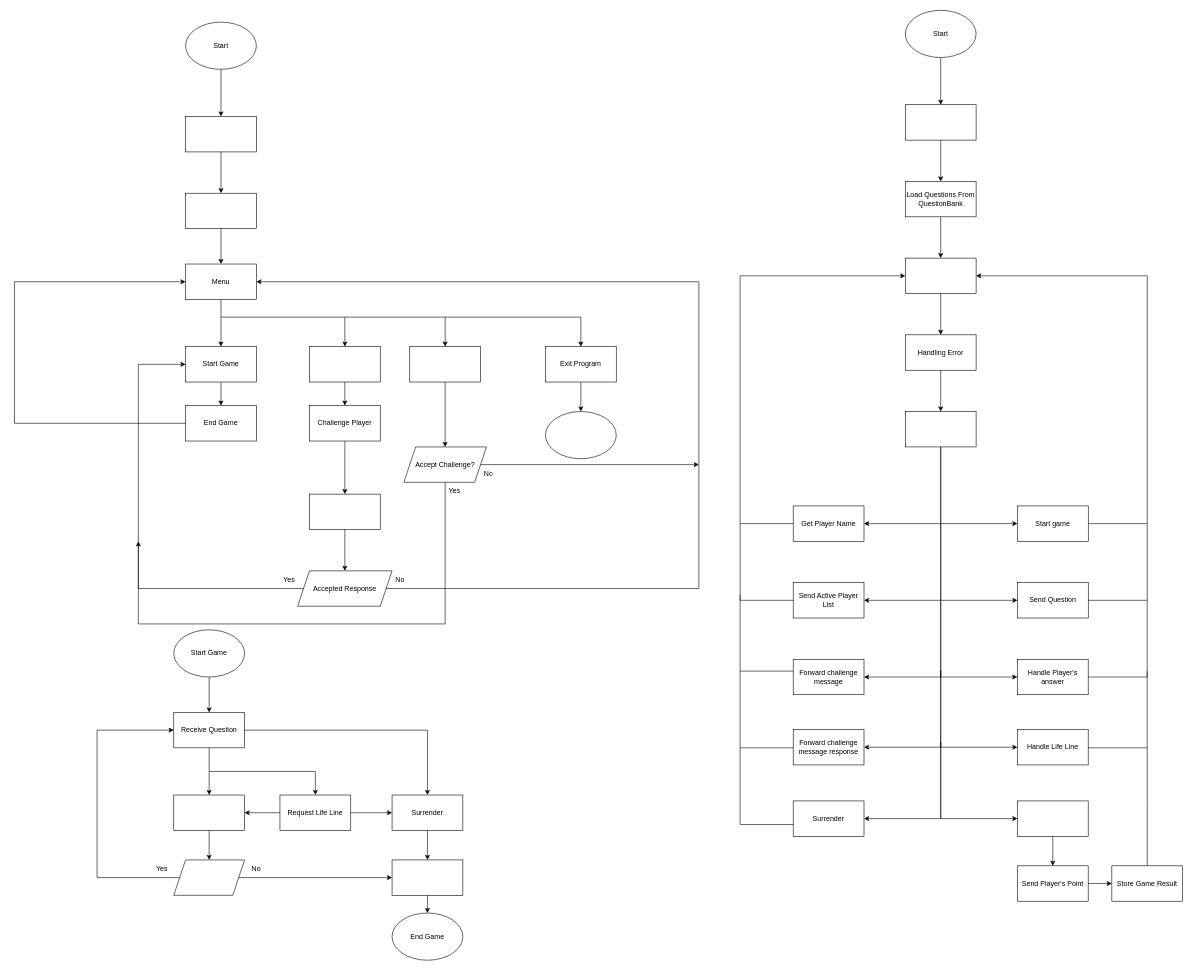
The diagram is 1193 pixels wide and 971 high, and some of its shapes have lost their labels. The shapes that lost their labels are listed below. From the top down, each one's centre as x and y in pixels, then its label:
[220,134]: Welcome
[940,122]: Initialize Server
[220,211]: Enter Player Name
[940,276]: Recv Message
[344,364]: Get Active Player List
[445,364]: Receive Challenge
[580,435]: End
[940,429]: Handling Header
[344,512]: Receive Response
[209,812]: Send Answer
[1052,818]: Game over
[209,877]: Correct Answer
[427,877]: Receive Score
